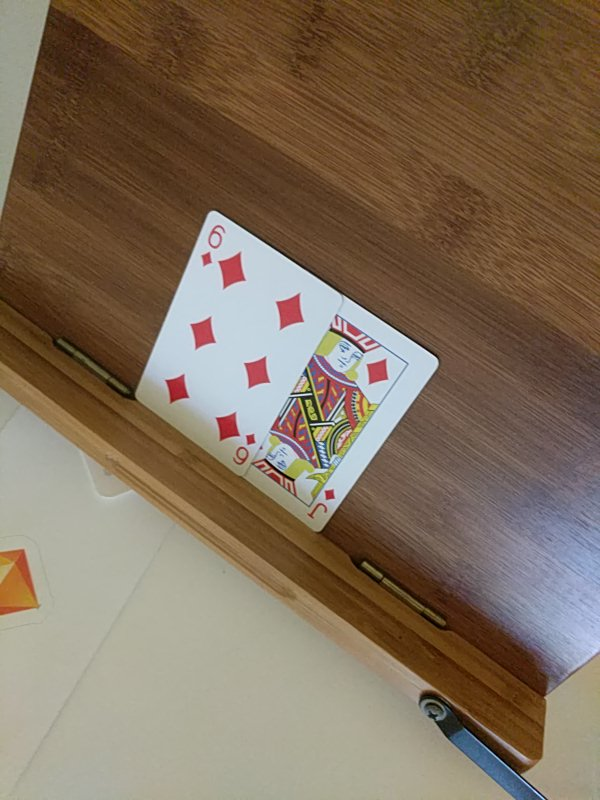Diamonds: (131, 211, 341, 479), (227, 285, 440, 531)
